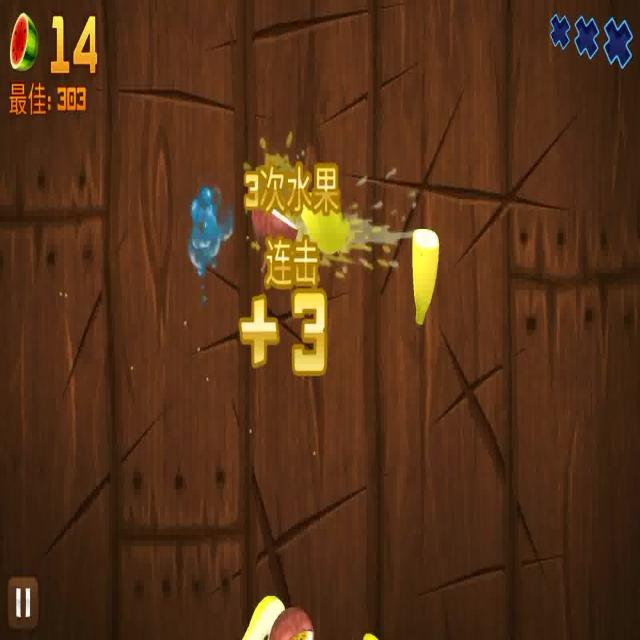fruit: (405, 213, 449, 330), (240, 582, 280, 640), (268, 599, 318, 639)
